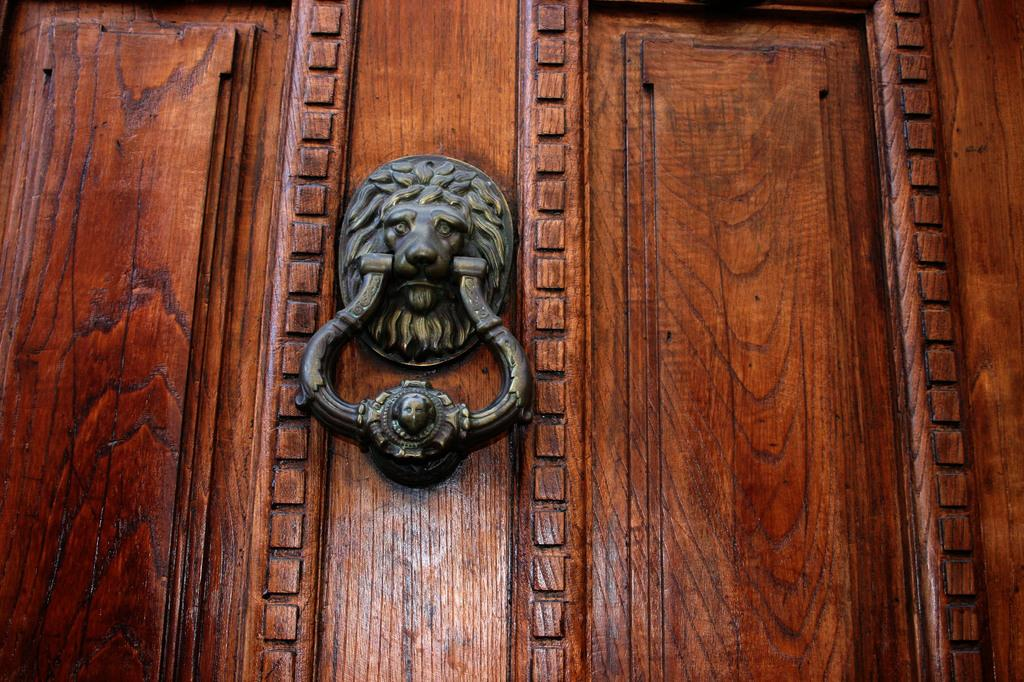handle: (300, 250, 556, 497)
